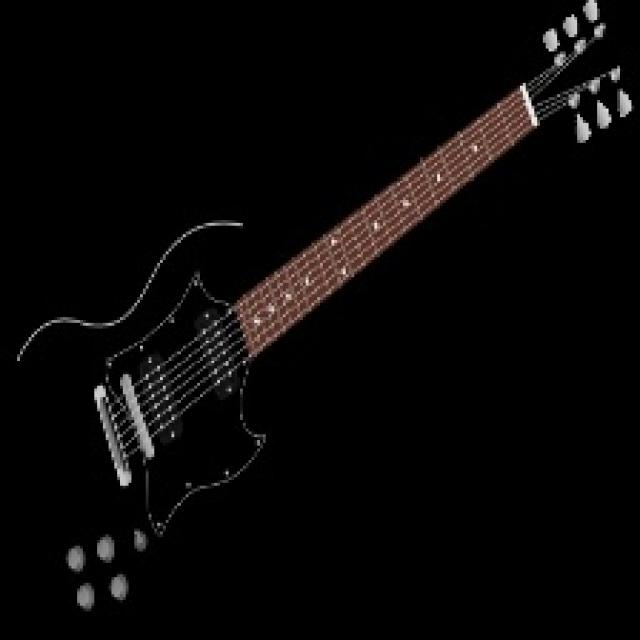guitar: (0, 0, 637, 623)
